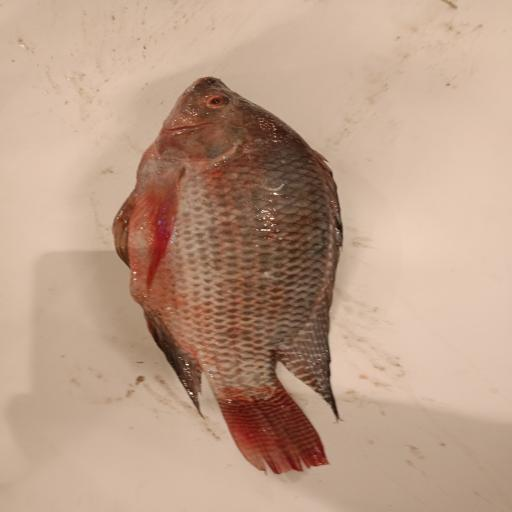Tilapia: (113, 76, 343, 475)
